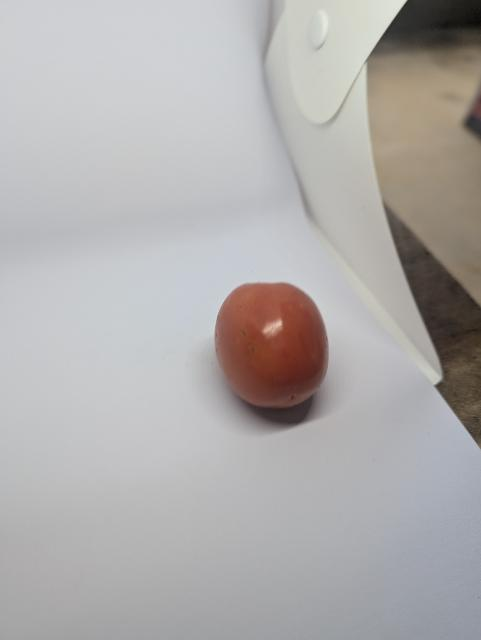red: (169, 247, 378, 444)
